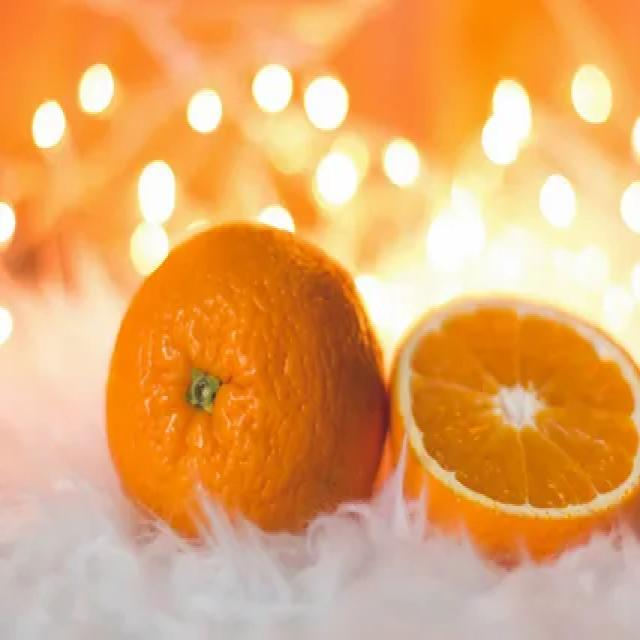orange: (90, 211, 406, 580)
